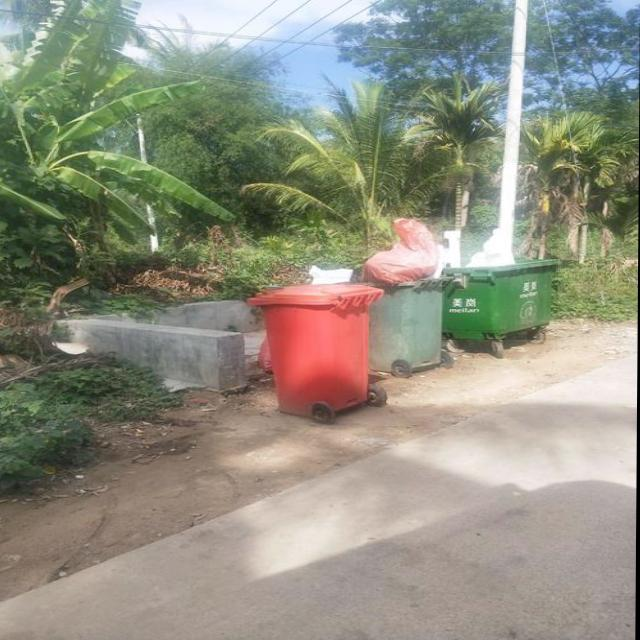garbage_bin: (245, 283, 383, 416)
overflow: (368, 217, 456, 371), (442, 227, 558, 341)
